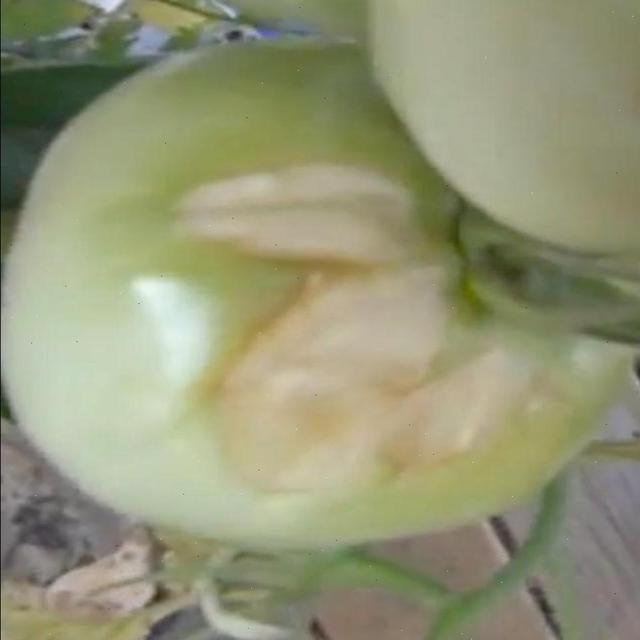Sunscald Fruit: (114, 107, 362, 337)
